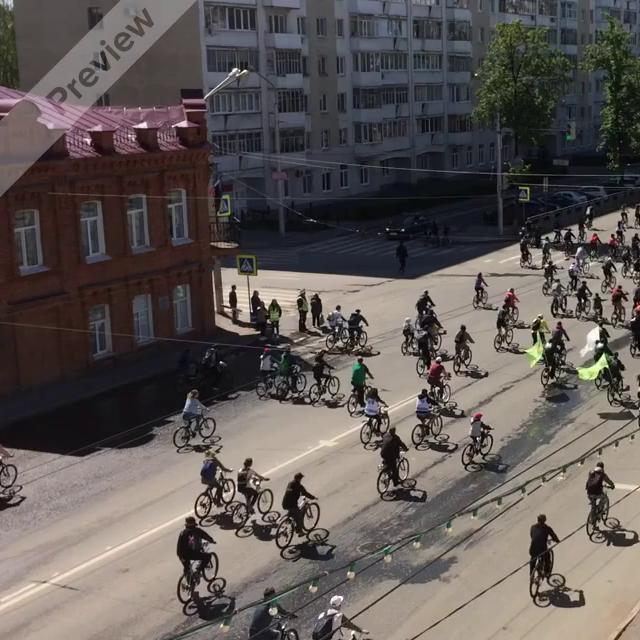bicycle: (274, 497, 329, 549), (176, 551, 226, 605), (528, 539, 565, 607), (194, 468, 235, 518), (231, 477, 273, 523), (585, 486, 620, 540), (376, 453, 416, 498), (172, 407, 216, 447), (461, 427, 494, 466), (540, 355, 577, 389), (411, 406, 443, 445), (360, 404, 390, 445), (274, 364, 306, 400), (309, 368, 340, 404), (255, 367, 286, 400), (415, 341, 438, 377), (347, 383, 372, 416), (428, 374, 451, 405), (452, 341, 472, 375), (606, 380, 631, 406), (344, 327, 367, 354), (494, 320, 514, 351), (325, 323, 348, 349), (550, 289, 569, 317), (400, 330, 418, 356), (574, 295, 591, 320), (472, 285, 489, 309), (611, 303, 626, 328), (506, 302, 519, 322)
